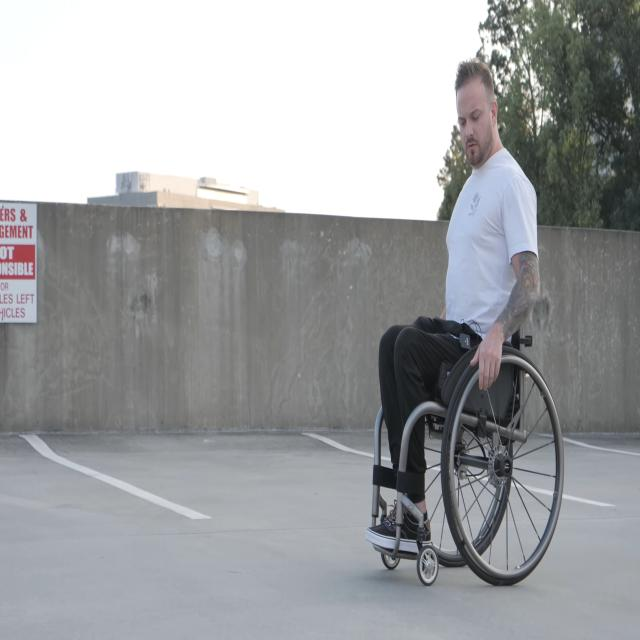wheelchairs: (368, 261, 566, 585)
